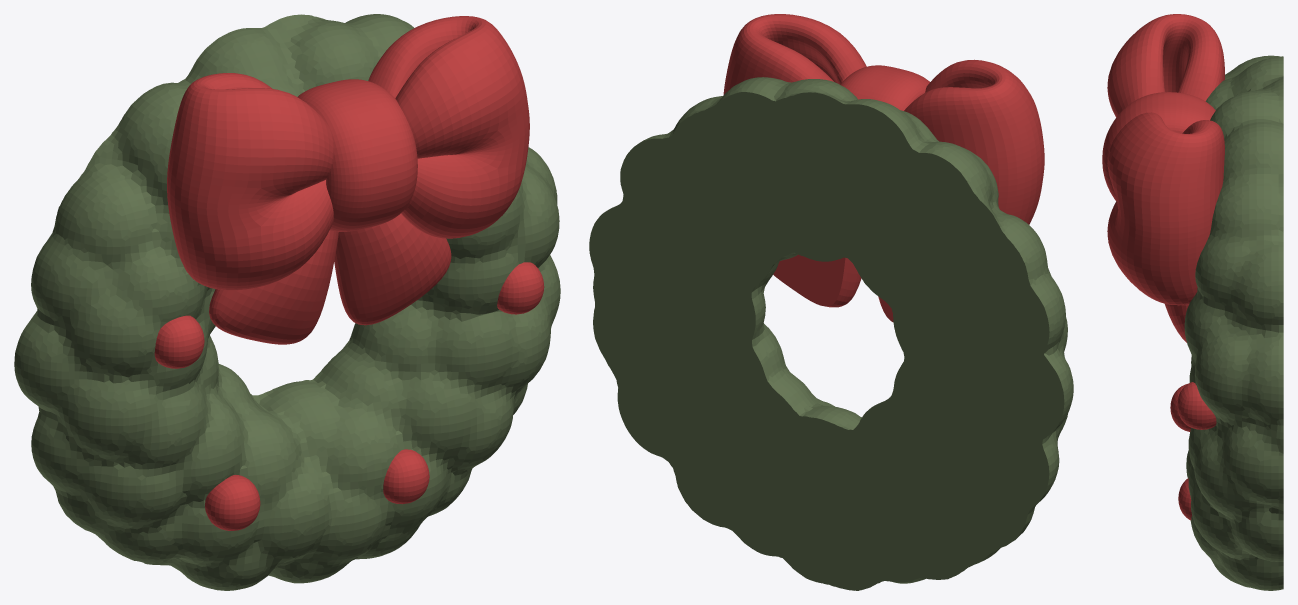
File: wreath.glb
3 renders of one model, left to right at view 1: azimuth 30°, elevation 25°; view 2: azimuth 150°, elevation 25°; view 3: azimuth 270°, elevation 25°, orthographic. The views are drawn at different scales.
Parts seen in each view (by area): view 1: Circle.048, Plane.072, Plane.070, Plane.071, Cube.228, Cube.230, Cube.231, Cube.229; view 2: Circle.048, Plane.072, Plane.070, Plane.071; view 3: Circle.048, Plane.072, Plane.071, Cube.229, Plane.070, Cube.231, Cube.228.
Boxes of the visible parts, <box> form: Circle.048: <box>14,14,560,590</box>; Plane.072: <box>167,16,529,290</box>; Plane.070: <box>209,213,451,344</box>; Plane.071: <box>297,79,417,231</box>; Cube.228: <box>205,474,260,530</box>; Cube.230: <box>154,315,204,368</box>; Cube.231: <box>383,449,429,504</box>; Cube.229: <box>497,262,544,314</box>; Circle.048: <box>589,77,1073,590</box>; Plane.072: <box>723,14,1044,224</box>; Plane.070: <box>773,254,893,322</box>; Plane.071: <box>840,65,929,110</box>; Circle.048: <box>1184,55,1283,590</box>; Plane.072: <box>1107,14,1224,305</box>; Plane.071: <box>1102,92,1215,200</box>; Cube.229: <box>1177,382,1216,429</box>; Plane.070: <box>1165,304,1189,342</box>; Cube.231: <box>1178,478,1191,520</box>; Cube.228: <box>1170,384,1190,431</box>.
Bounding box in the file's own units: 18.51 × 18.58 × 6.18.
